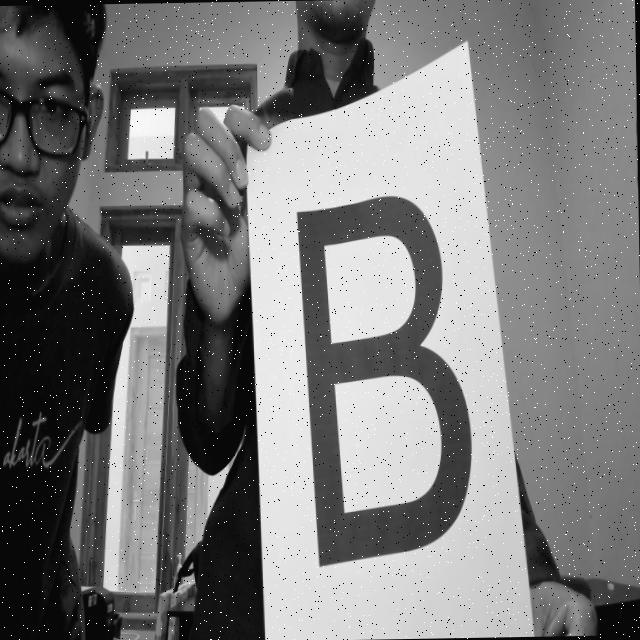b: (288, 177, 492, 600)
